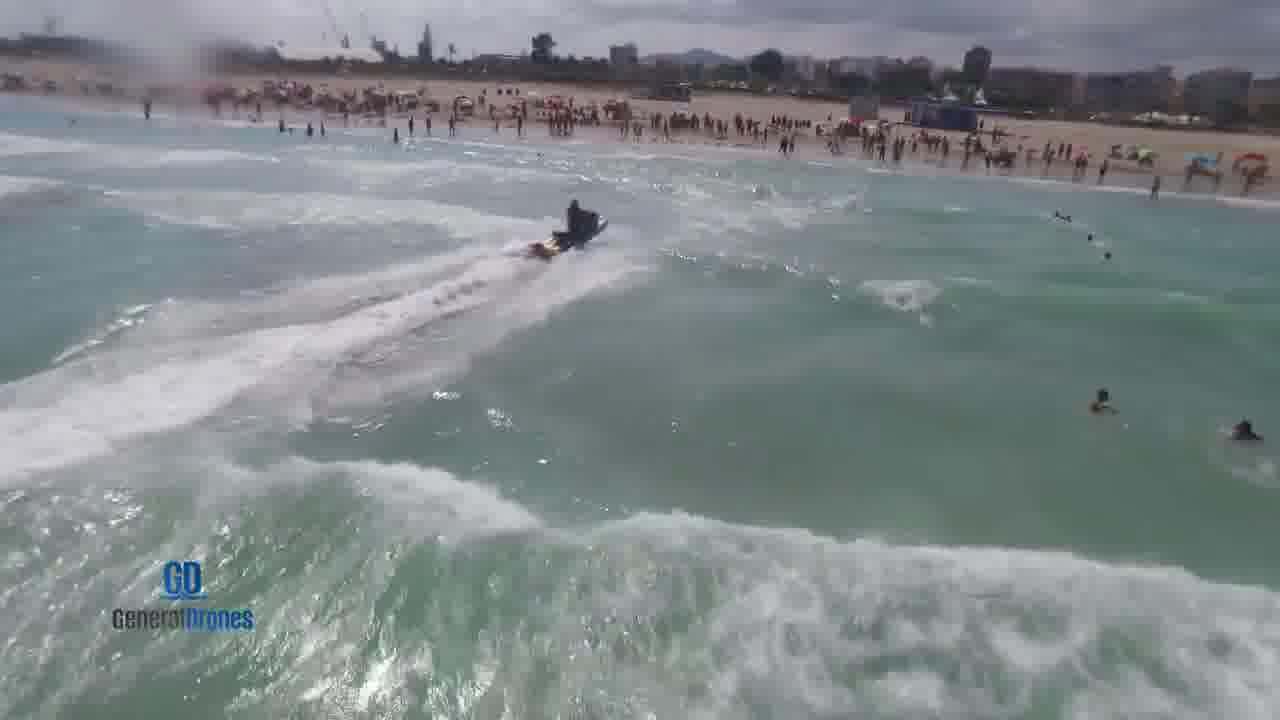human: (1075, 372, 1126, 419), (1219, 405, 1275, 447)
